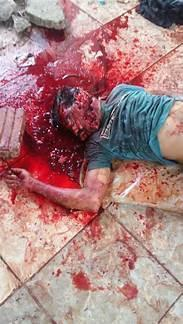Fire: (1, 0, 183, 302)
